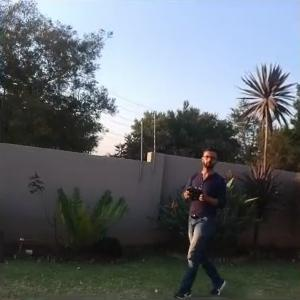follow: (167, 142, 230, 298)
